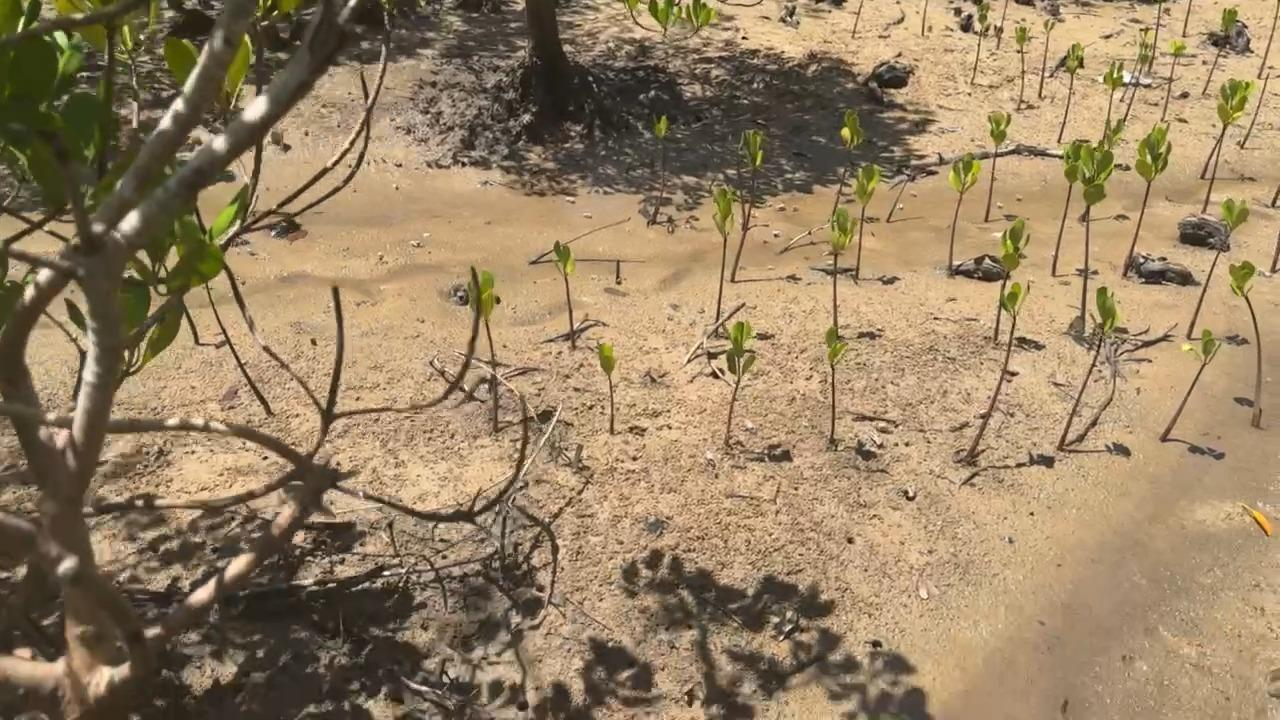Tree: (966, 281, 1030, 457), (1058, 285, 1119, 450), (1187, 196, 1249, 338), (1157, 328, 1222, 441), (1077, 142, 1114, 323), (1204, 79, 1249, 213), (1230, 260, 1266, 427), (1198, 79, 1253, 179), (468, 268, 500, 430), (1077, 118, 1124, 223), (730, 131, 762, 282), (993, 217, 1029, 342), (722, 319, 755, 444), (1052, 138, 1082, 275), (948, 153, 980, 271), (829, 205, 856, 336), (833, 108, 865, 217), (711, 182, 734, 323), (1201, 7, 1237, 95), (985, 109, 1010, 222), (856, 163, 879, 278), (1123, 41, 1155, 123), (1059, 40, 1084, 142), (825, 325, 847, 439), (554, 241, 576, 347), (1160, 39, 1186, 121), (1121, 29, 1150, 101), (651, 116, 668, 225), (1104, 59, 1124, 144), (1258, 0, 1278, 77), (598, 342, 615, 432), (1038, 18, 1055, 98), (972, 3, 988, 84), (1149, 0, 1163, 71), (887, 177, 909, 221), (1015, 26, 1026, 108), (1182, 0, 1192, 38)
